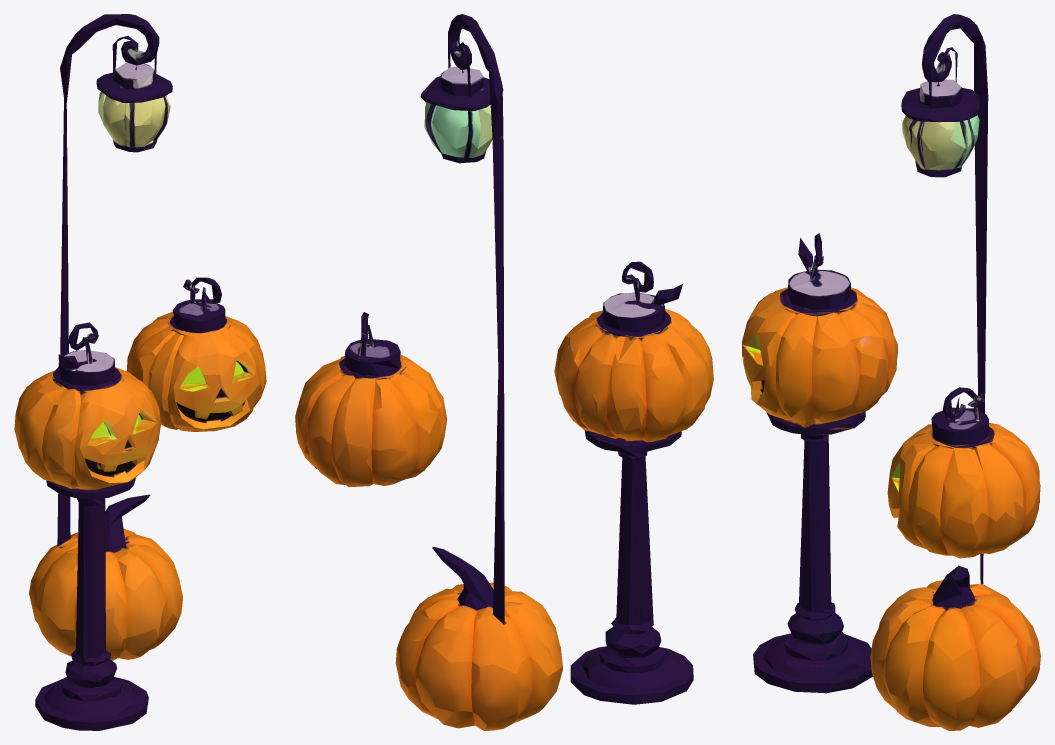
Rendered from hw-lantern.glb.
3 renders of one model, left to right at view 1: azimuth 30°, elevation 25°; view 2: azimuth 150°, elevation 25°; view 3: azimuth 270°, elevation 25°, orthographic. The views are drawn at different scales.
Size of the model in its own units: 0.9473 by 1.9 by 0.7333.
Materials: 1 (1 with a texture image).
